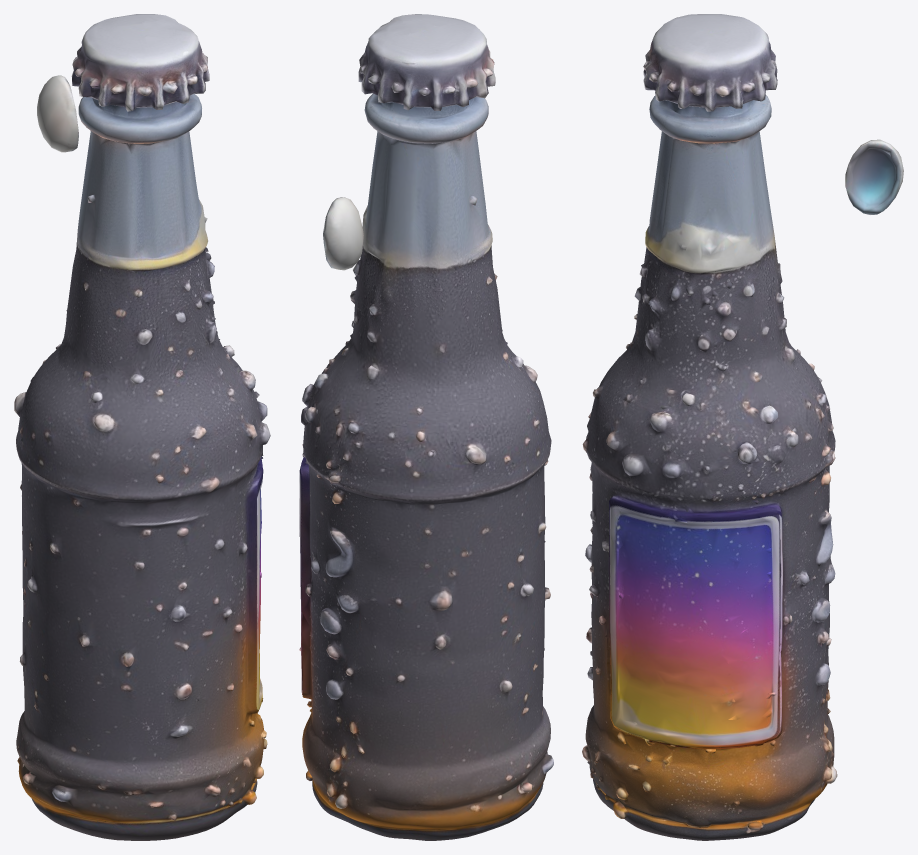
The model's file is after_work_beer.glb.
3 renders of one model, left to right at view 1: azimuth 30°, elevation 25°; view 2: azimuth 150°, elevation 25°; view 3: azimuth 270°, elevation 25°, orthographic.
Parts seen in each view (by area): view 1: tripo_node_0dfcb493-ff1d-4bc0-b3da-412f0332f60a; view 2: tripo_node_0dfcb493-ff1d-4bc0-b3da-412f0332f60a; view 3: tripo_node_0dfcb493-ff1d-4bc0-b3da-412f0332f60a.
Part boxes in pixels (x1,y1,x2,y2): tripo_node_0dfcb493-ff1d-4bc0-b3da-412f0332f60a: [14, 14, 270, 840]; tripo_node_0dfcb493-ff1d-4bc0-b3da-412f0332f60a: [299, 14, 553, 840]; tripo_node_0dfcb493-ff1d-4bc0-b3da-412f0332f60a: [582, 14, 903, 840].
Size of the model in its own units: 0.2922 by 0.9822 by 0.3713.
Materials: 1 (1 with a texture image).
